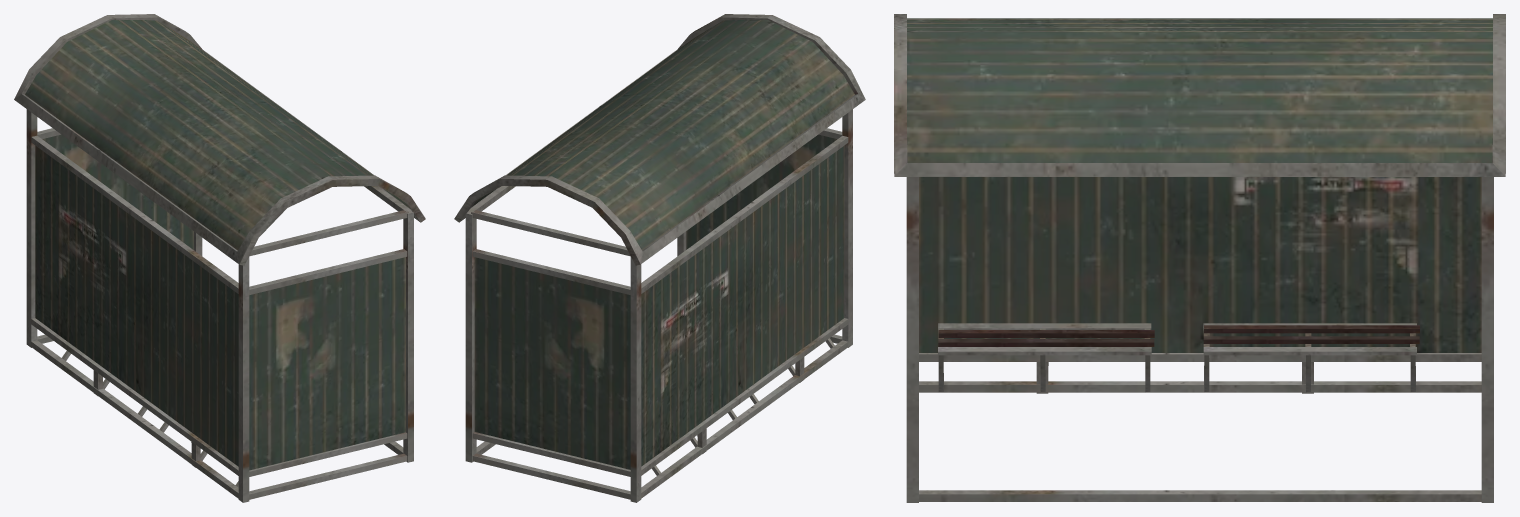
Rendered from bus-stop.lod0.glb.
The picture shows the model from 3 angles, left to right: view 1: azimuth 30°, elevation 25°; view 2: azimuth 150°, elevation 25°; view 3: azimuth 270°, elevation 25°; orthographic projection. The views are drawn at different scales.
Parts seen in each view (by area): view 1: model_st1:polySurface33polySurface38_lambert2_0; view 2: model_st1:polySurface33polySurface38_lambert2_0; view 3: model_st1:polySurface33polySurface38_lambert2_0.
Part boxes in pixels (x1,y1,x2,y2): model_st1:polySurface33polySurface38_lambert2_0: [14, 14, 425, 502]; model_st1:polySurface33polySurface38_lambert2_0: [454, 14, 865, 502]; model_st1:polySurface33polySurface38_lambert2_0: [894, 14, 1505, 502].
Bounding box in the file's own units: 2.11 × 3.3 × 4.4.
Materials: 1 (1 with a texture image).
